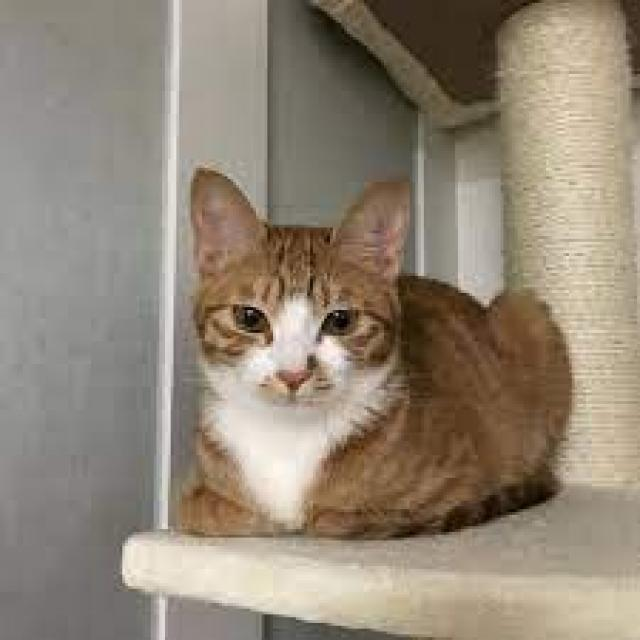cat: (165, 159, 580, 548)
